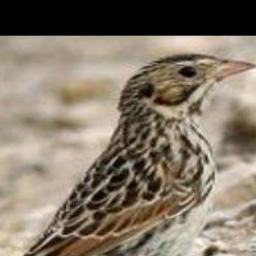Sparrow: (0, 50, 256, 256)
